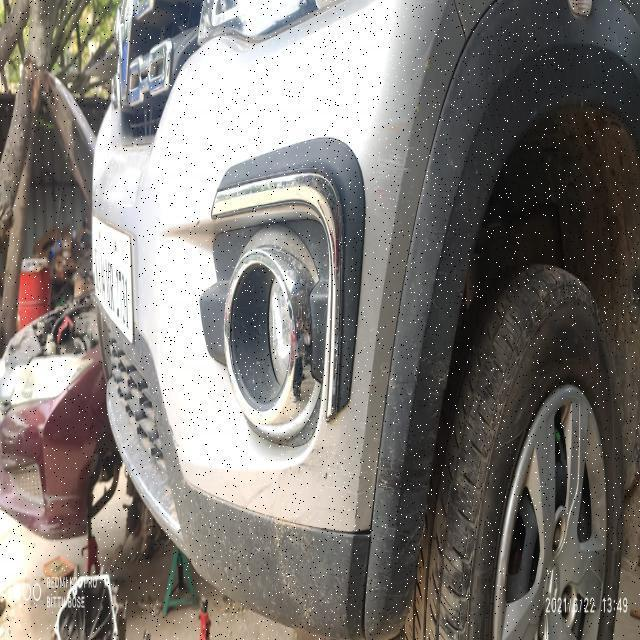front-bumper-dent: (163, 380, 377, 630)
